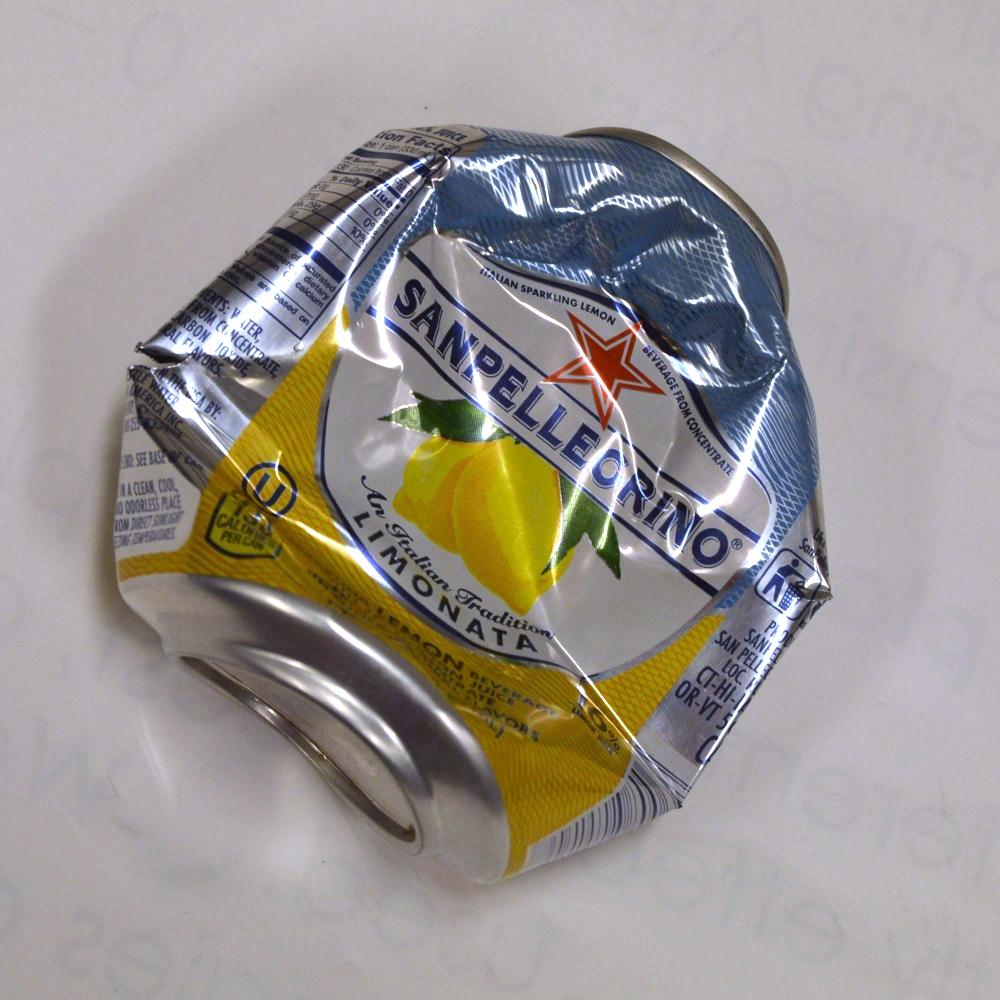Metal: (66, 87, 811, 898)
